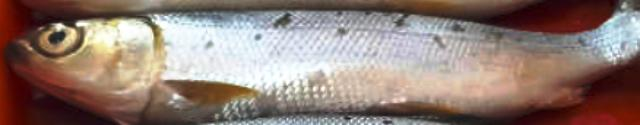Healthy Fish: (10, 0, 640, 125)
